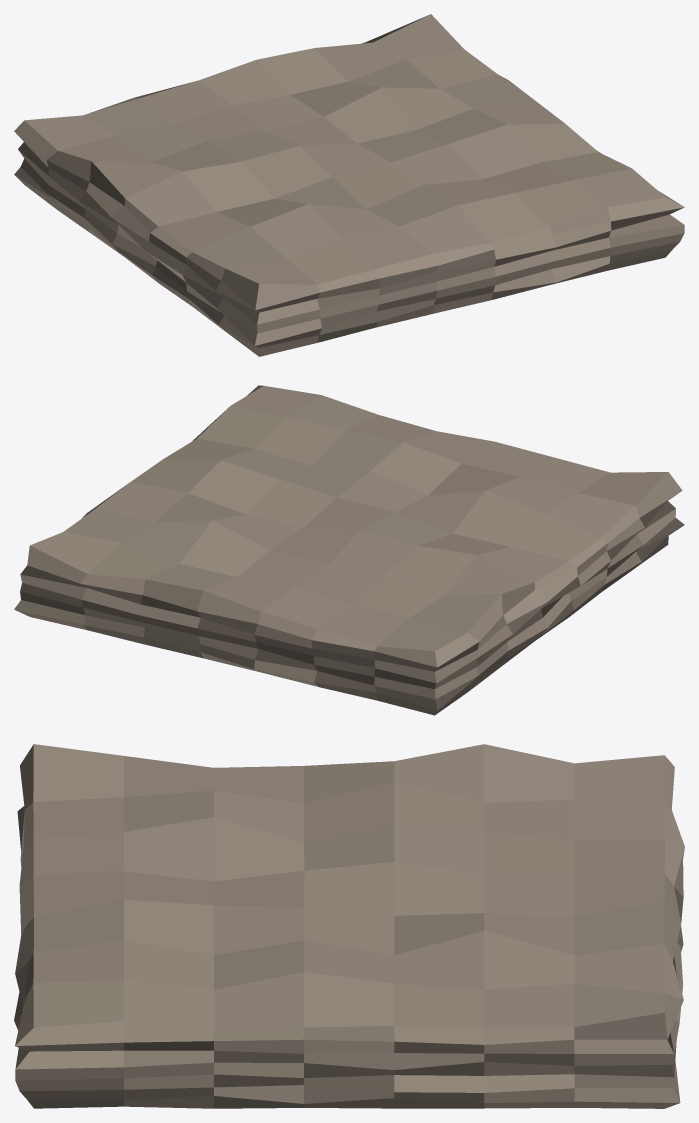
The picture shows the model from 3 angles, top to bottom: view 1: azimuth 30°, elevation 25°; view 2: azimuth 150°, elevation 25°; view 3: azimuth 270°, elevation 25°; orthographic projection. The views are drawn at different scales.
Parts seen in each view (by area): view 1: RockyPlatform; view 2: RockyPlatform; view 3: RockyPlatform.
Part boxes in pixels (<box>): RockyPlatform: <box>14,14,684,356</box>; RockyPlatform: <box>14,385,684,715</box>; RockyPlatform: <box>14,744,684,1108</box>.
Bounding box in the file's own units: 7458 × 1262 × 7445.
